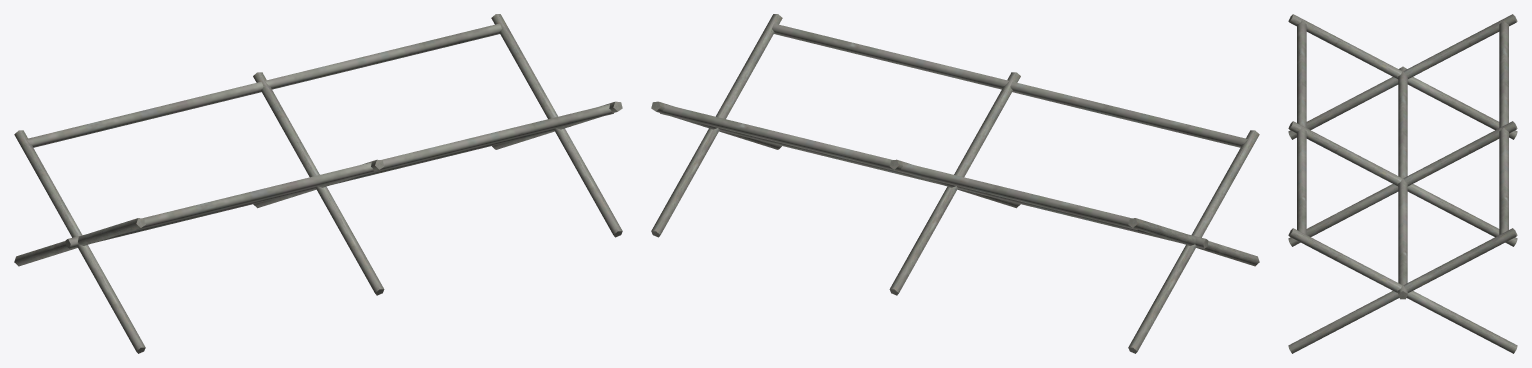
File: eqp_camping_cot_l0.fbx
3 views of the same model, side by side, from view 1: azimuth 30°, elevation 25°; view 2: azimuth 150°, elevation 25°; view 3: azimuth 270°, elevation 25° (orthographic). The views are drawn at different scales.
Visible parts, largest first — view 1: mesh_node; view 2: mesh_node; view 3: mesh_node.
Boxes of the visible parts, x1,y1,x2,y2 form: mesh_node: [14, 14, 622, 353]; mesh_node: [651, 14, 1259, 353]; mesh_node: [1288, 14, 1517, 353].
Bounding box in the file's own units: 2.01 × 0.5221 × 0.8678.
Materials: 1 (1 with a texture image).
